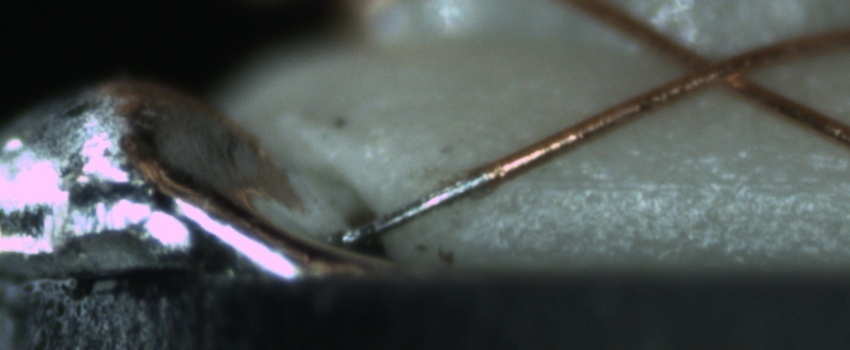CL: (664, 41, 763, 99)
DL: (473, 151, 850, 215)
TS: (332, 166, 490, 247)
